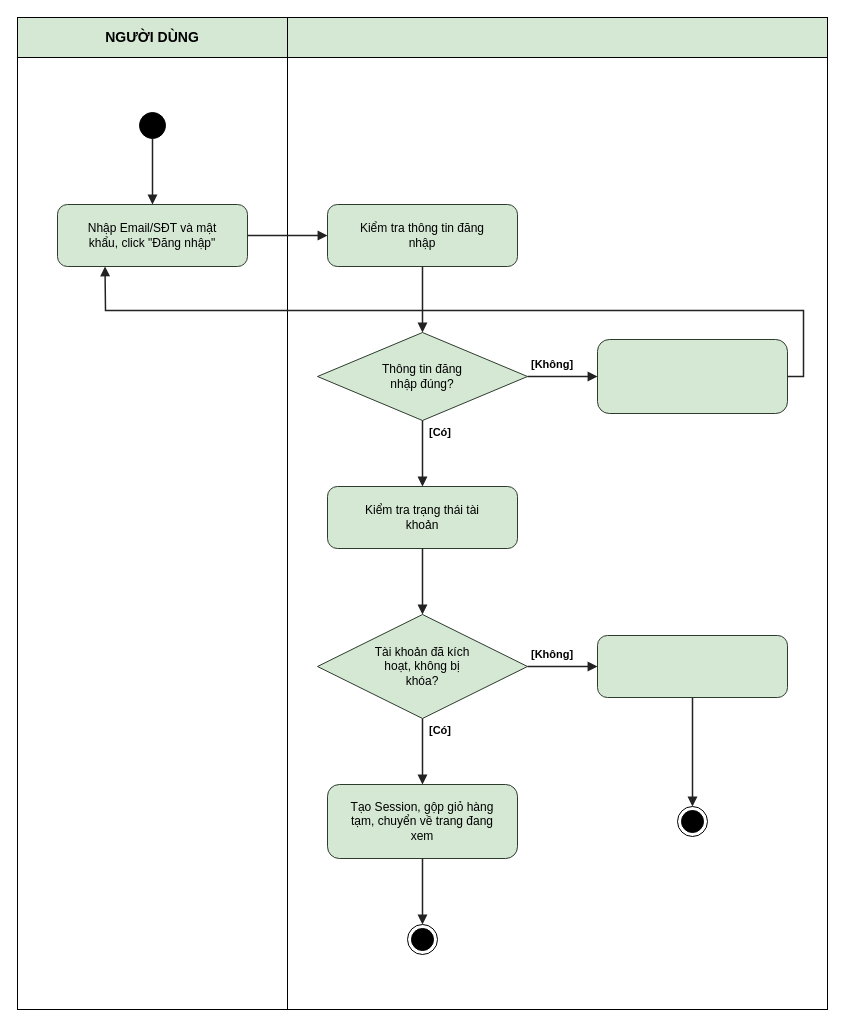
Image size: 845x1027. Some labels were removed from this diagram. The shapes that lost their labels are listed below. From the top down, each one's centre as x and y in pixels, then its label:
At (557,37): "HỆ THỐNG".
At (692,376): "Thông báo sai thông tin (sai quá 5 lần: CAPTCHA, tạm khóa 15 phút)".
At (692,666): "Thông báo tài khoản chưa kích hoạt hoặc bị khóa".
